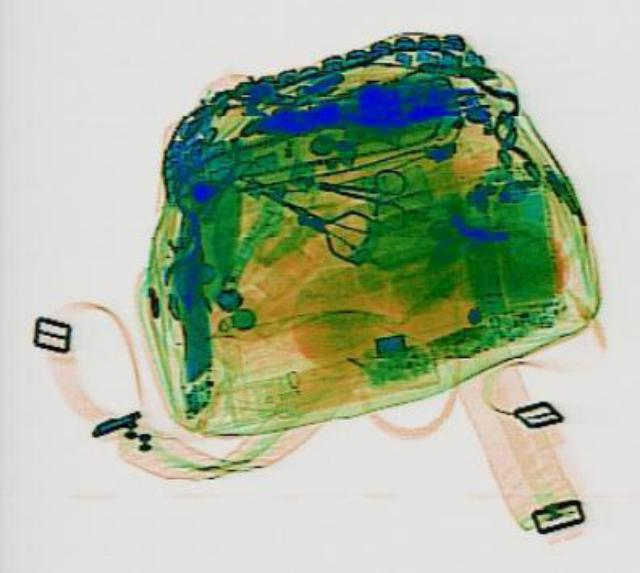Scissors: (307, 155, 418, 229)
